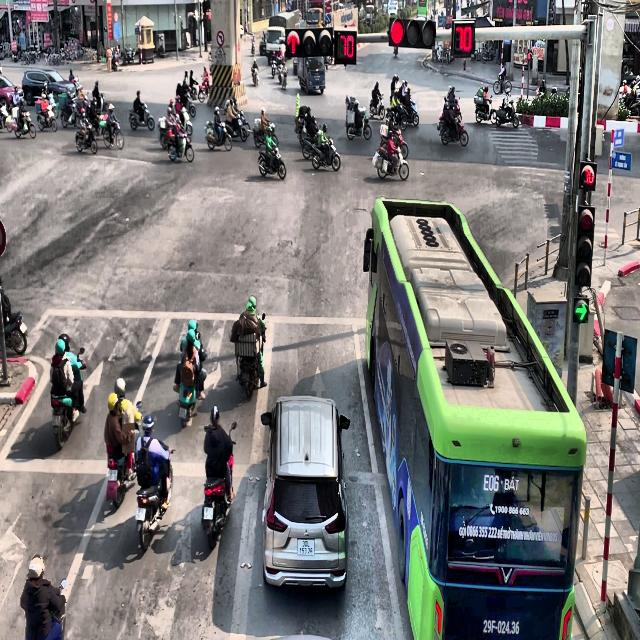BUS: (363, 197, 587, 639)
CAR: (260, 395, 350, 590), (22, 69, 76, 105), (0, 74, 24, 111)
MOTORBIKE: (201, 422, 237, 549), (135, 441, 175, 551), (106, 400, 142, 508), (51, 348, 86, 450), (235, 312, 266, 399), (0, 284, 27, 355), (176, 362, 198, 428), (376, 143, 408, 181), (311, 138, 341, 172), (257, 145, 286, 180), (440, 112, 468, 146), (204, 119, 232, 151), (223, 110, 249, 142), (168, 130, 194, 162), (61, 98, 88, 128), (35, 96, 57, 132), (346, 110, 372, 140), (495, 96, 519, 128), (75, 120, 97, 154), (129, 102, 154, 131), (13, 110, 36, 139), (103, 118, 124, 149), (300, 127, 320, 159), (474, 95, 496, 124), (385, 106, 407, 132), (399, 100, 419, 126), (369, 93, 385, 119), (493, 73, 512, 94), (190, 80, 207, 102), (278, 64, 288, 89), (251, 65, 259, 86), (270, 56, 277, 78)
TRAFFIC_LIGHT: (574, 203, 594, 288), (389, 17, 436, 48), (452, 20, 475, 56), (334, 29, 357, 64), (579, 161, 597, 190), (573, 297, 589, 323)
